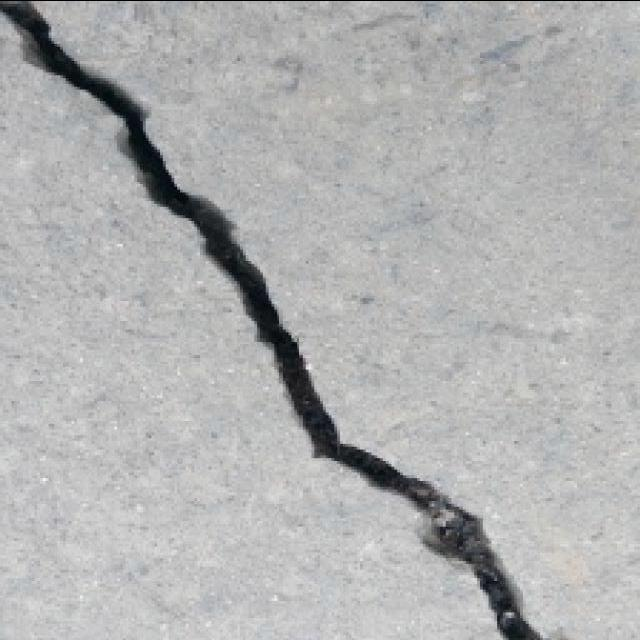SurfaceCrack: (2, 0, 566, 636)
